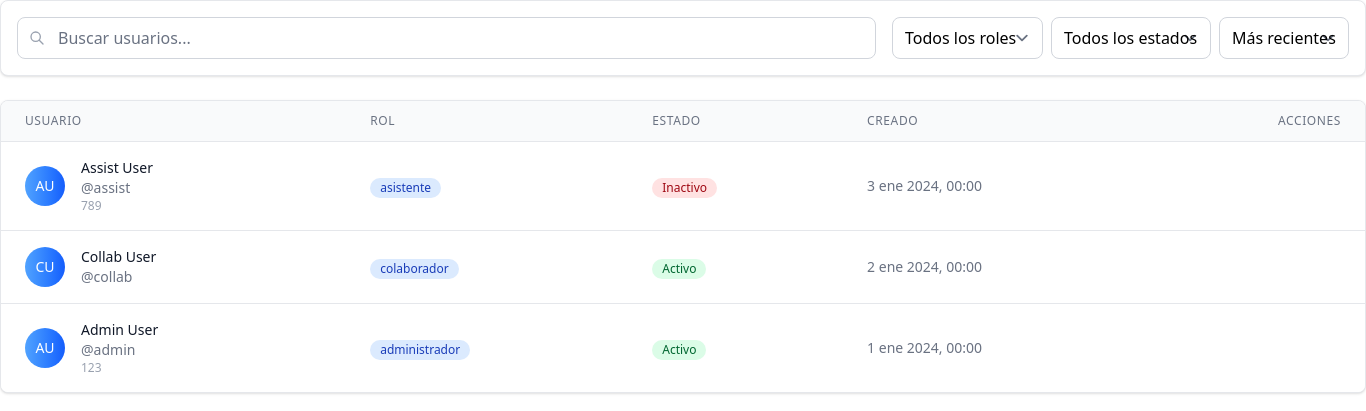
Test case: UserList › Search and Filters › should filter by status
The image size is (1366, 411).
Select "Inactivos" in the 2nd dropdown at (1131, 38), box [1051,17,1211,59]
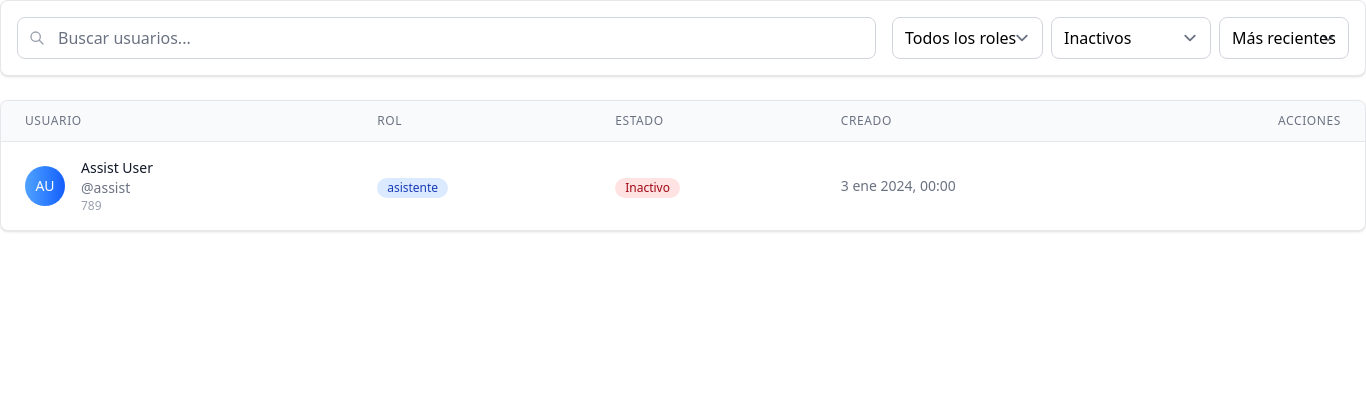
Expected: the text "Assist User" is shown, [81,158,153,178]
Expected: the text "Admin User" is gone
